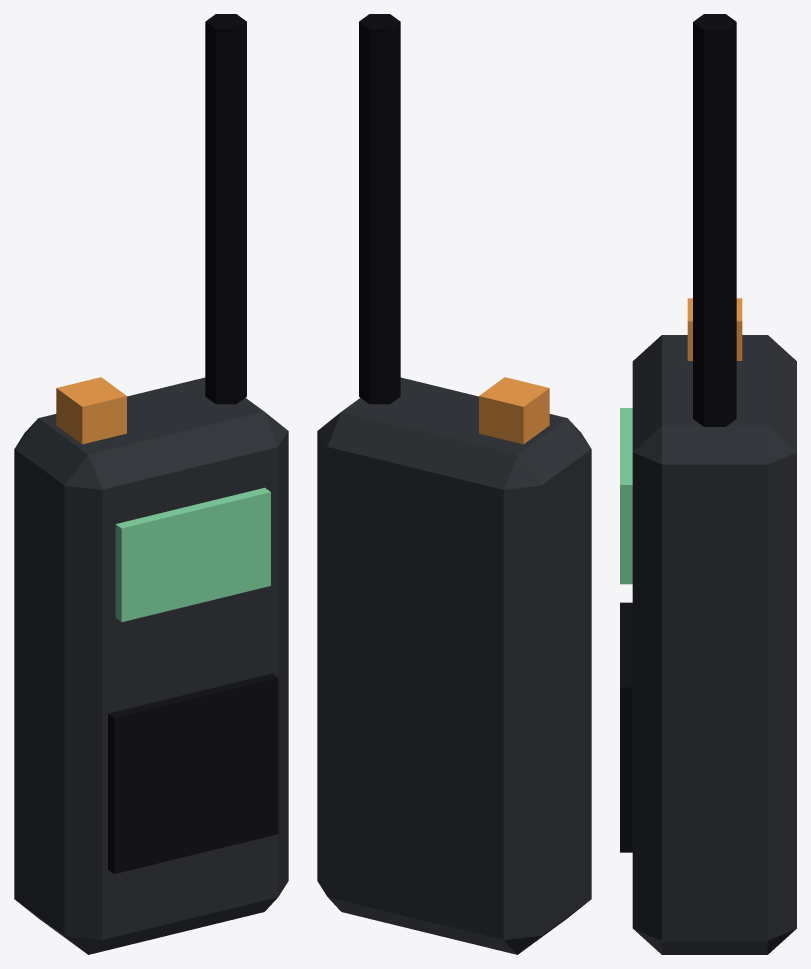
The model's file is Item_Radio.glb.
3 views of the same model, side by side, from view 1: azimuth 30°, elevation 25°; view 2: azimuth 150°, elevation 25°; view 3: azimuth 270°, elevation 25° (orthographic). The views are drawn at different scales.
Parts seen in each view (by area): view 1: Radio_Case, Radio_Grill, Radio_Antenna, Radio_Screen, Radio_Knob; view 2: Radio_Case, Radio_Antenna, Radio_Knob; view 3: Radio_Case, Radio_Antenna, Radio_Grill, Radio_Screen, Radio_Knob.
Part boxes in pixels (x1,y1,x2,y2): Radio_Case: (14,377,288,954); Radio_Grill: (108,673,278,874); Radio_Antenna: (205,14,246,404); Radio_Screen: (115,487,270,622); Radio_Knob: (56,377,126,444); Radio_Case: (317,377,591,954); Radio_Antenna: (359,14,400,404); Radio_Knob: (479,377,549,444); Radio_Case: (632,335,796,954); Radio_Antenna: (693,14,736,426); Radio_Grill: (620,602,632,852); Radio_Screen: (620,408,632,584); Radio_Knob: (687,298,742,360).
Size of the model in its own units: 0.075 by 0.28 by 0.0485.
